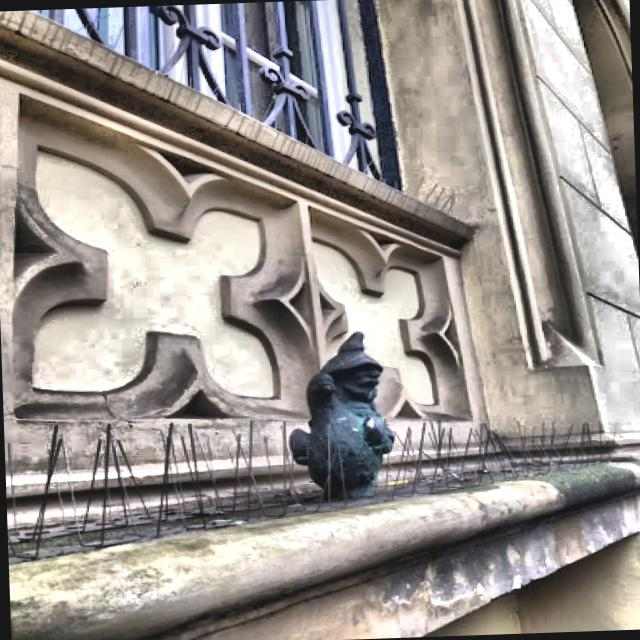Golebnik: (287, 331, 395, 503)
